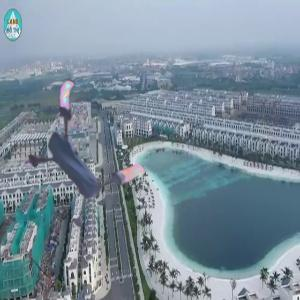drone: (17, 95, 145, 223)
